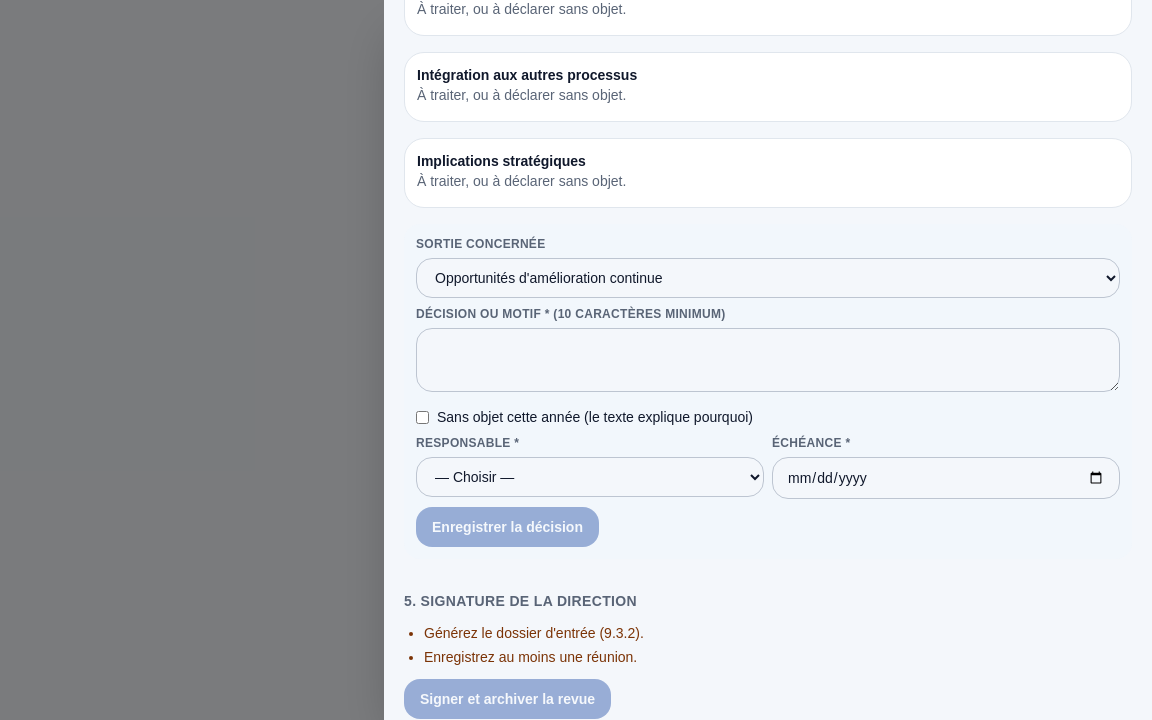
Test case: revue de direction › exige responsable et échéance pour une décision, sauf si la sortie est déclarée sans objet
This screenshot has width=1152, height=720.
(page scrolled)
Type "Former les chefs d'atelier au tri." into the text box labelled "Décision ou motif * (10 caractères minimum)" at (768, 360), box [416,328,1120,392]
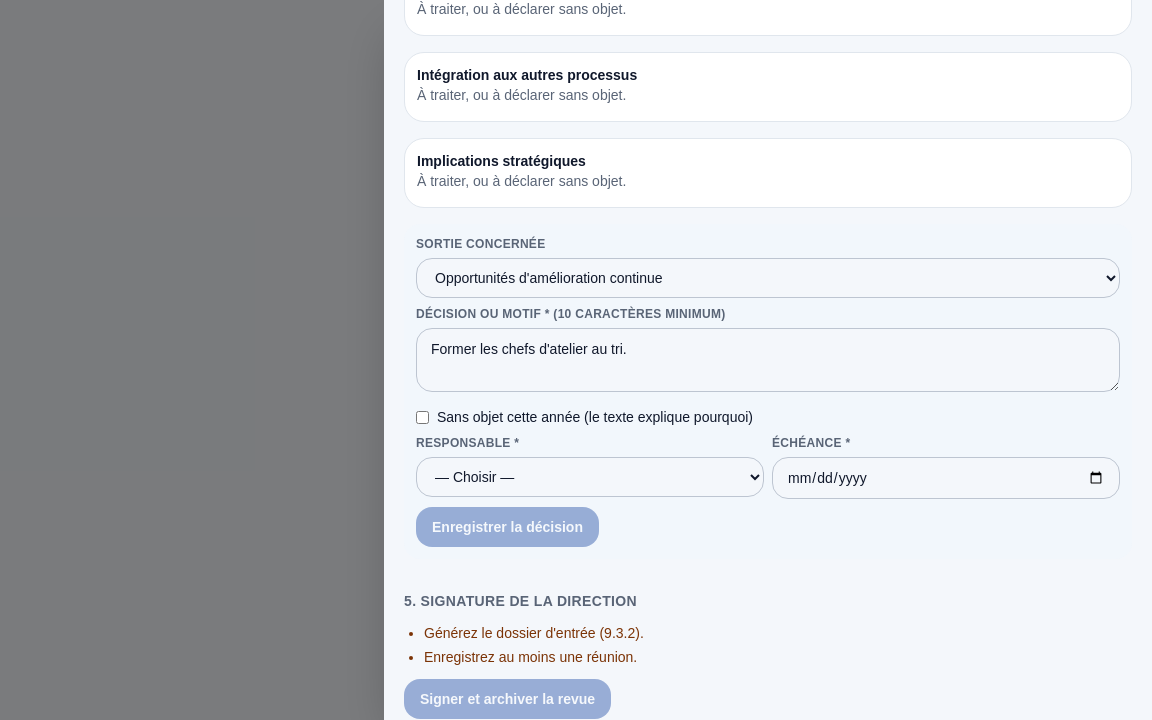
Expected: the button "Enregistrer la décision" is disabled, [416,507,599,547]
Click the checkbox labelled "Sans objet cette année (le texte explique pourquoi)" at (422, 417), box [416,410,429,424]
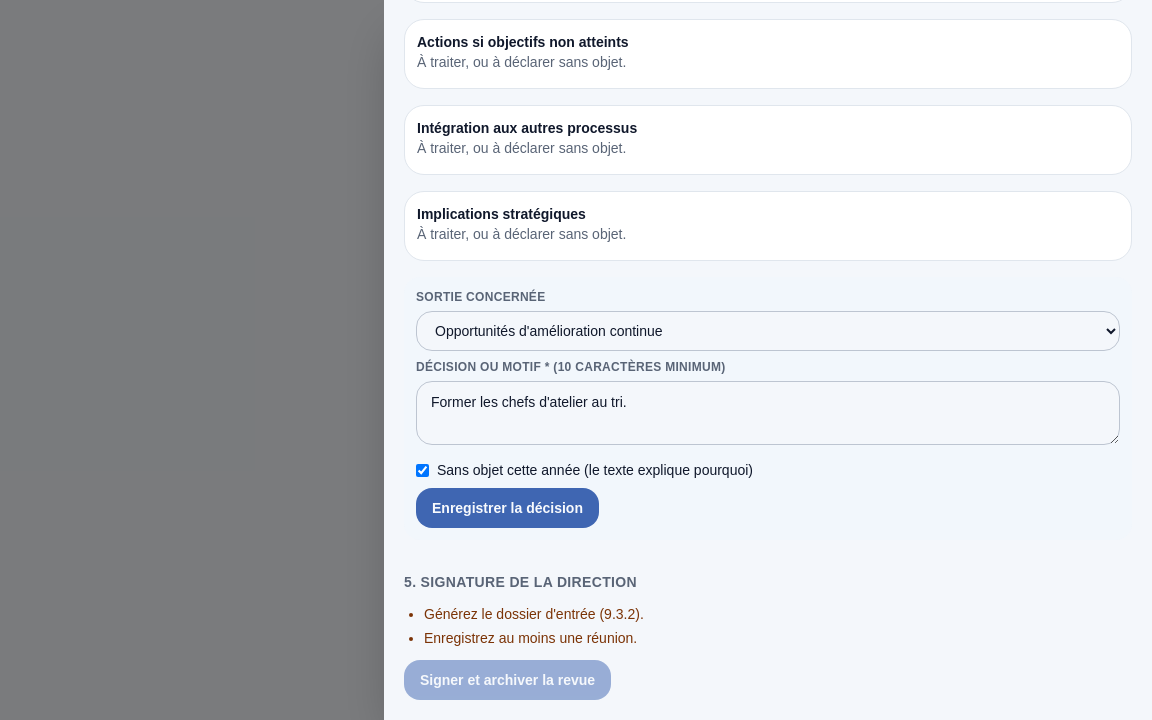
Result: the button "Enregistrer la décision" is enabled at [416,488,599,528]
Result: the text labelled "Responsable" is gone
